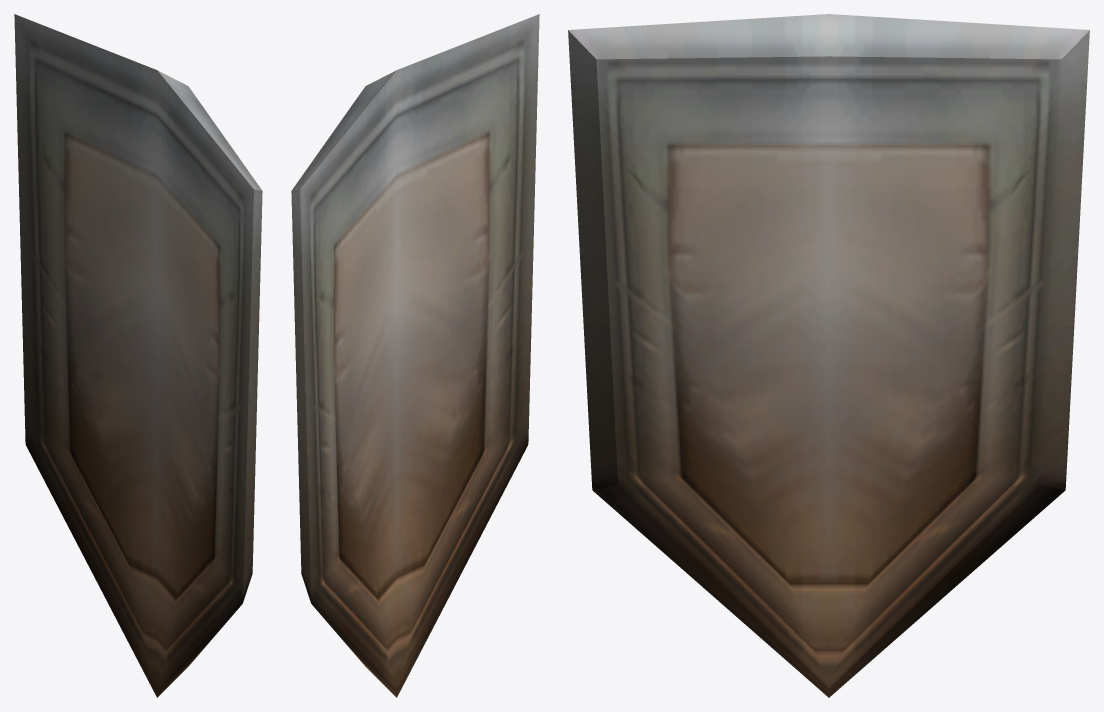
Rendered from wallshield03.obj.
The picture shows the model from 3 angles, left to right: view 1: azimuth 30°, elevation 25°; view 2: azimuth 150°, elevation 25°; view 3: azimuth 270°, elevation 25°; orthographic projection. The views are drawn at different scales.
Visible parts, largest first — view 1: wallshield03; view 2: wallshield03; view 3: wallshield03.
Boxes of the visible parts, box(x1,y1,x2,y2) form: wallshield03: box(14, 14, 262, 697); wallshield03: box(291, 14, 539, 697); wallshield03: box(568, 14, 1089, 697).
Bounding box in the file's own units: 0.0954 × 1.05 × 0.7288.
1 material, 1 textured.
